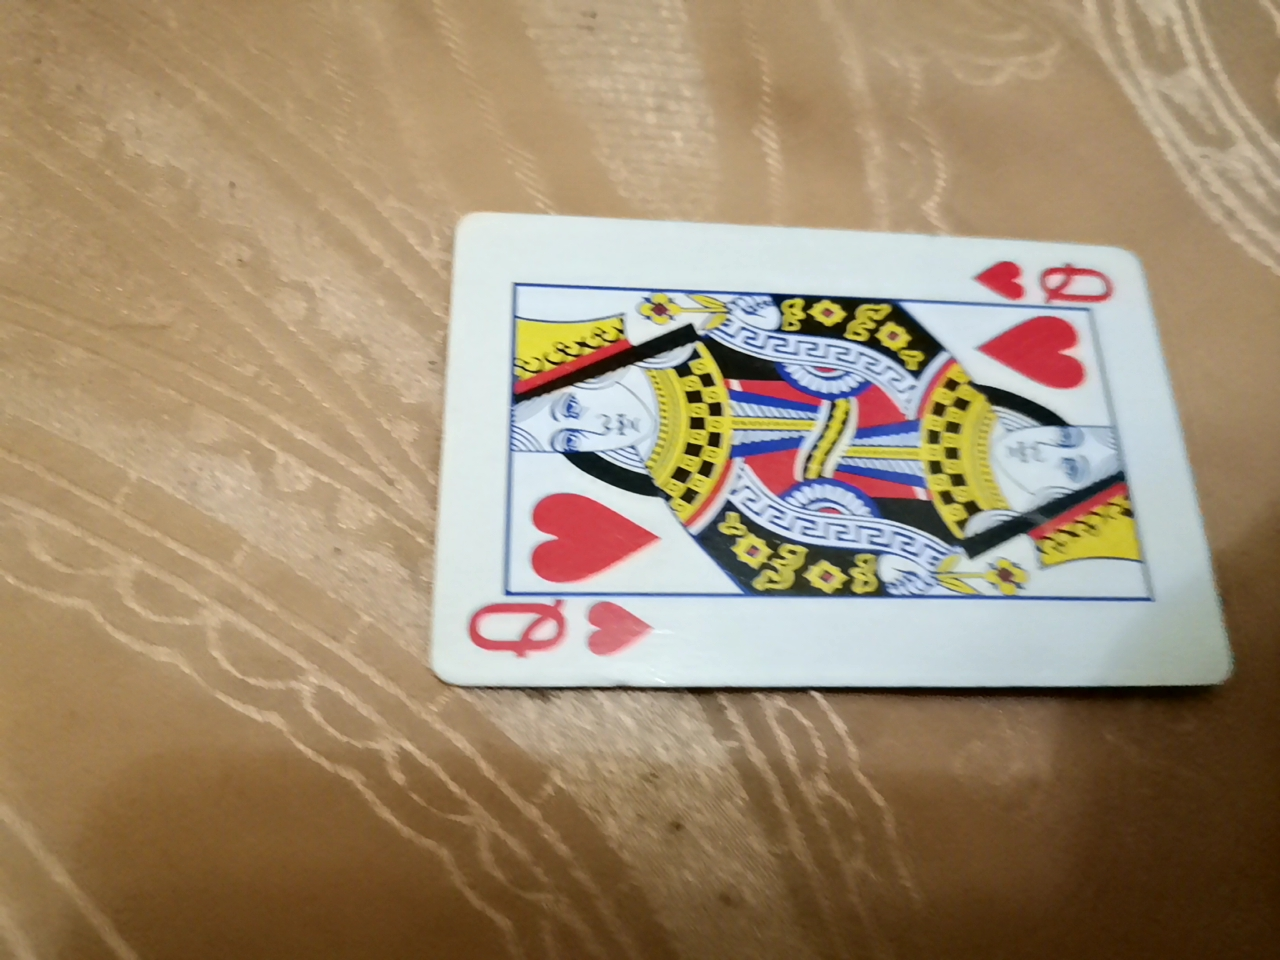hx q: (468, 230, 1251, 721)
